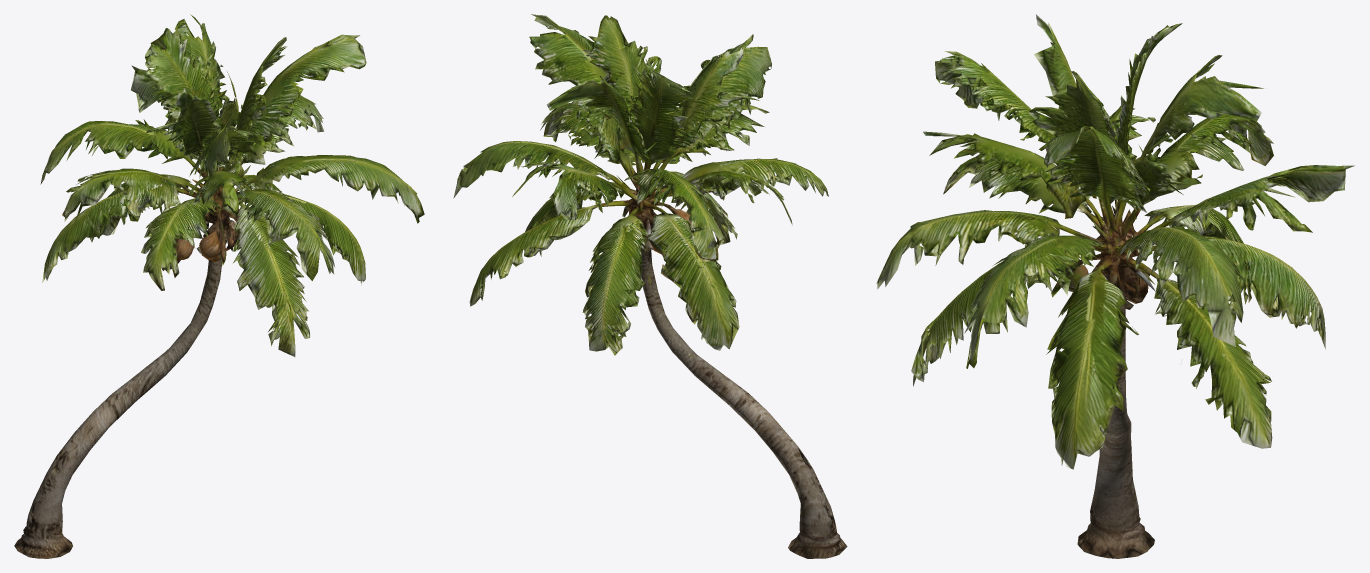
Rendered from tropical_palm_tree.fbx.
3 views of the same model, side by side, from view 1: azimuth 30°, elevation 25°; view 2: azimuth 150°, elevation 25°; view 3: azimuth 270°, elevation 25° (orthographic). The views are drawn at different scales.
Visible parts, largest first — view 1: mesh_node; view 2: mesh_node; view 3: mesh_node.
Boxes of the visible parts, left/top/right/bottom form: mesh_node: left=14, top=14, right=424, bottom=558; mesh_node: left=453, top=14, right=847, bottom=558; mesh_node: left=876, top=14, right=1354, bottom=558.
Bounding box in the file's own units: 1.54 × 1.95 × 1.38.
